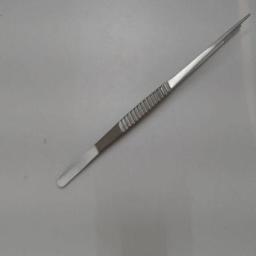DeBakey Dissector: (49, 4, 255, 208)
